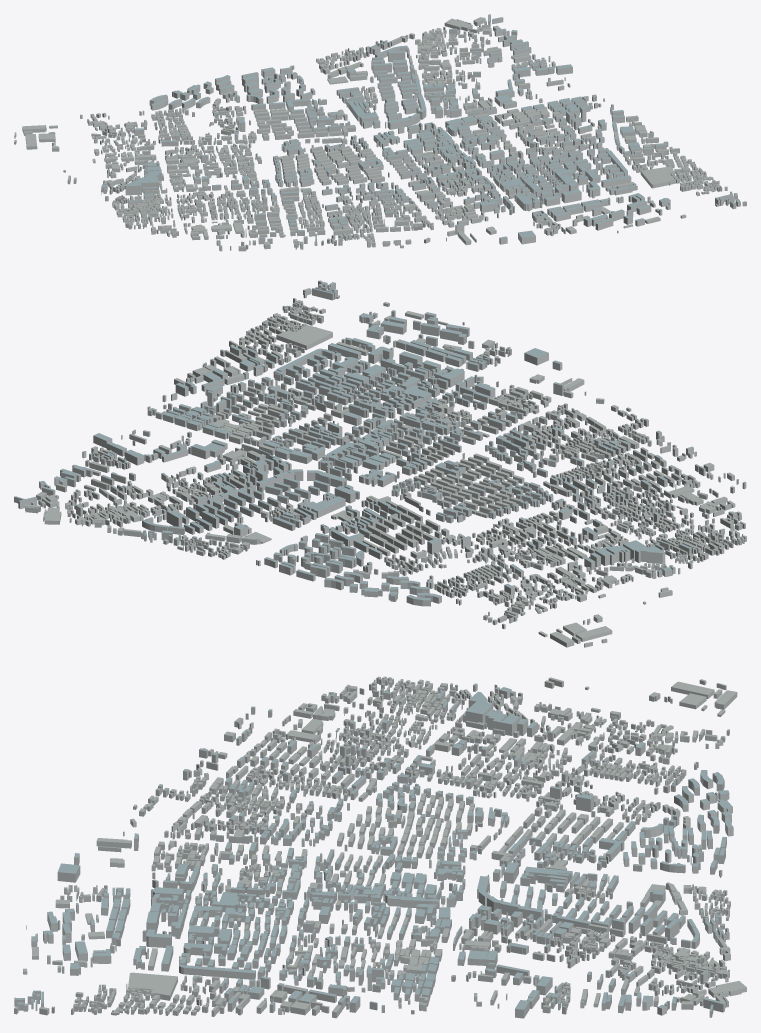
The model's file is far.glb.
The picture shows the model from 3 angles, top to bottom: view 1: azimuth 30°, elevation 25°; view 2: azimuth 150°, elevation 25°; view 3: azimuth 270°, elevation 25°; orthographic projection. The views are drawn at different scales.
Bounding box in the file's own units: 2109 × 51.53 × 1939.
